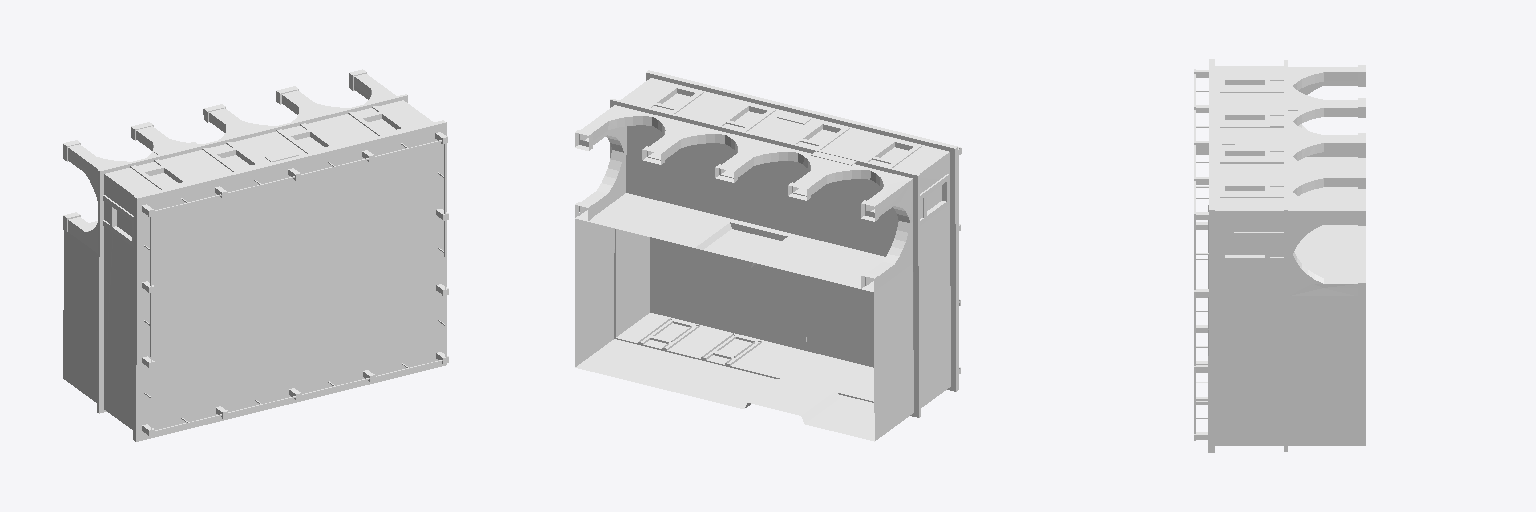
File: building5.obj
3 views of the same model, side by side, from view 1: azimuth 30°, elevation 25°; view 2: azimuth 150°, elevation 25°; view 3: azimuth 270°, elevation 25° (orthographic).
Parts seen in each view (by area): view 1: Building5_013; view 2: Building5_013; view 3: Building5_013.
Boxes of the visible parts, box(x1,y1,x2,y2) form: Building5_013: box(63, 69, 448, 441); Building5_013: box(575, 70, 961, 441); Building5_013: box(1194, 59, 1365, 452).
Bounding box in the file's own units: 12.38 × 9.28 × 5.96.